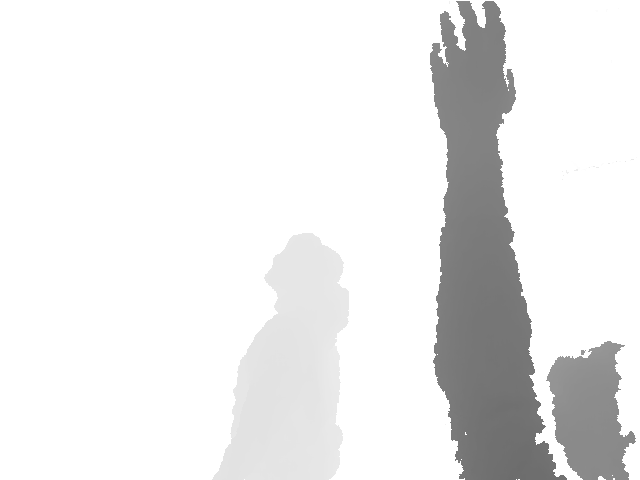hand: (428, 2, 517, 139)
head: (548, 339, 634, 480), (264, 229, 347, 310)
person: (428, 1, 636, 480), (210, 229, 351, 480)
